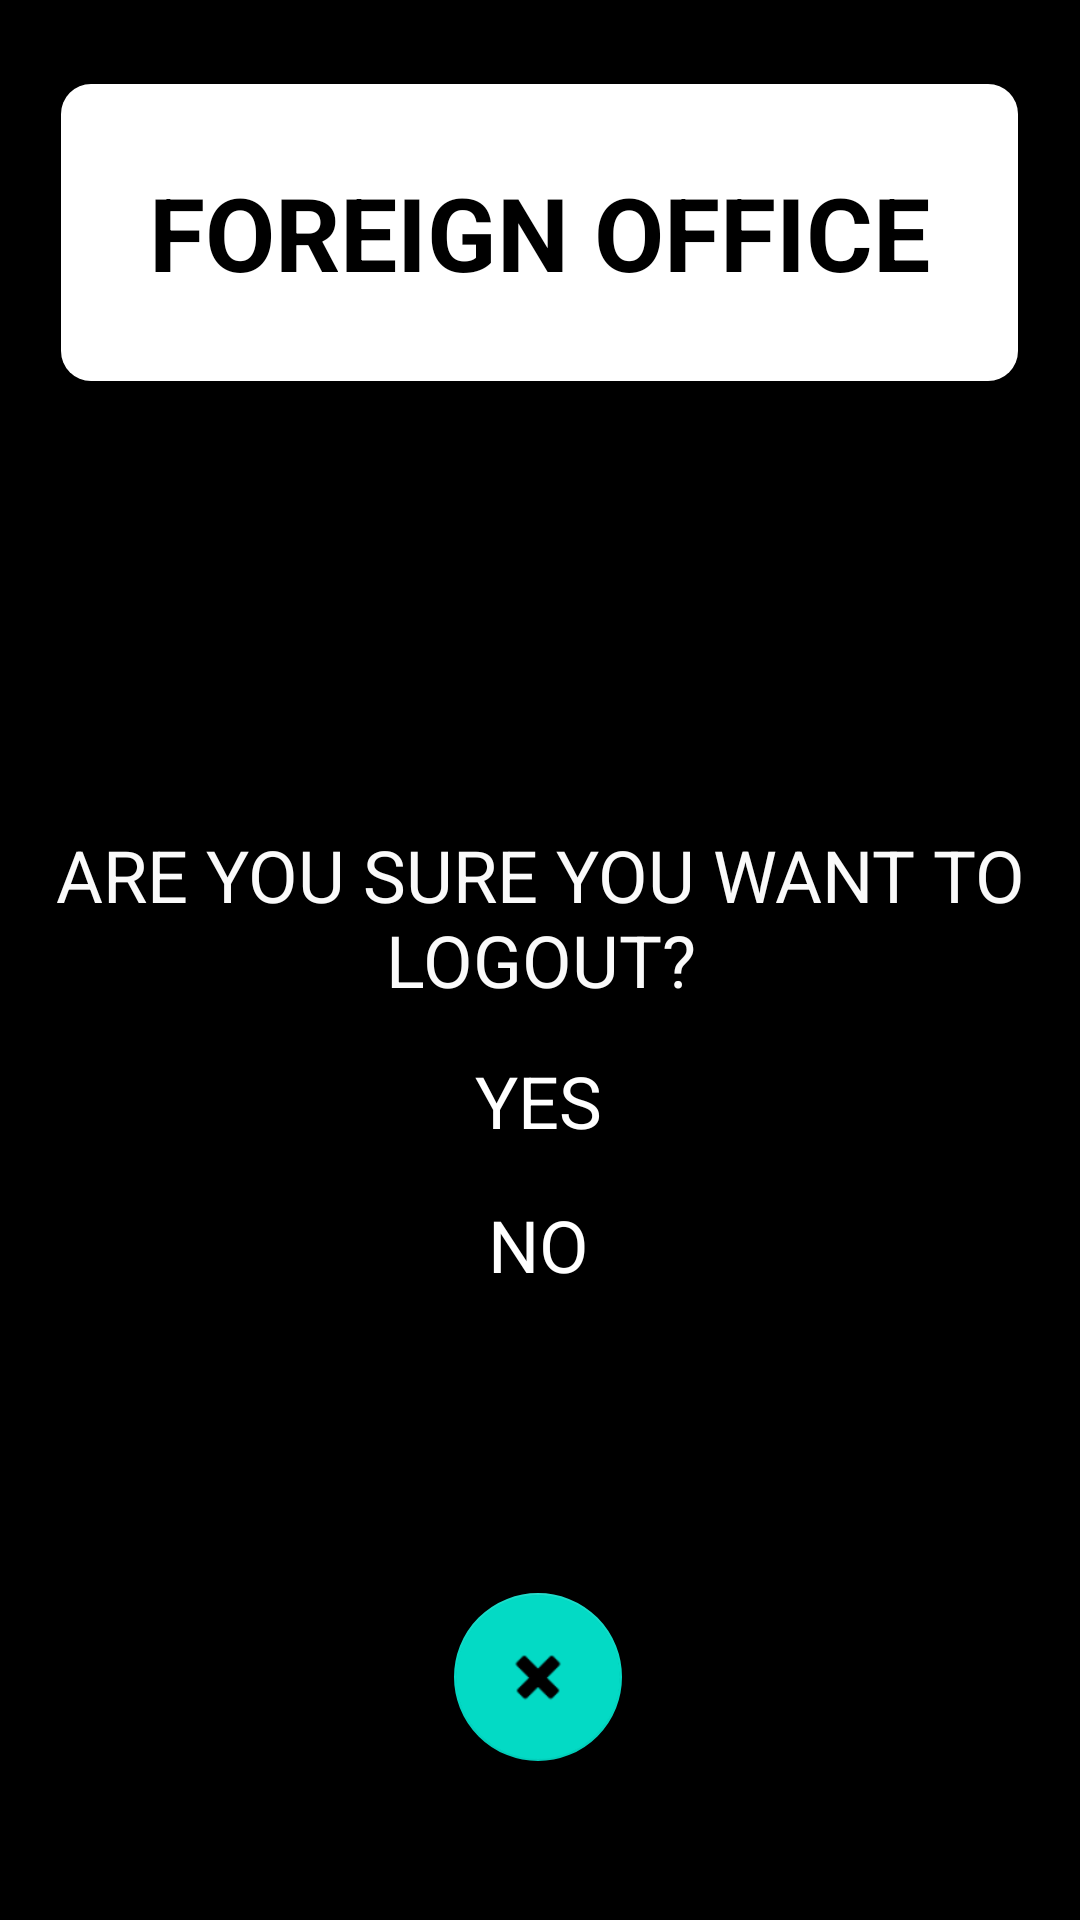

Icon bounding boxes for this 1080w x 1920h phone screenshot, format bbox=[x1, y1, x2, y2]:
delete: bbox=[454, 1593, 622, 1761]
